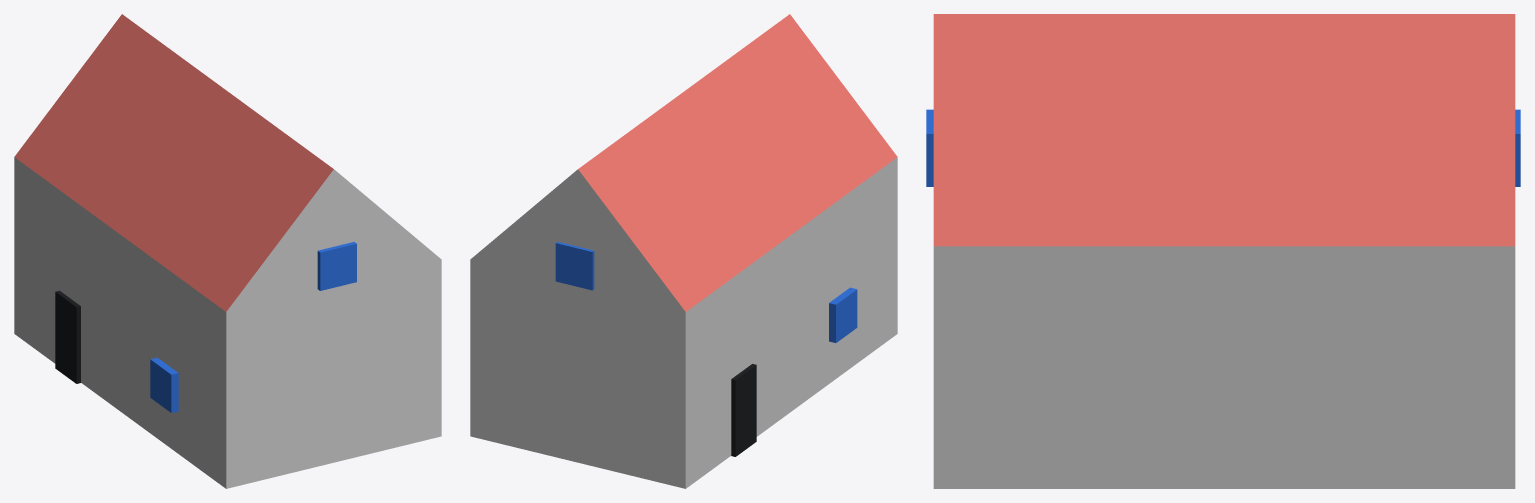
Rendered from House.fbx.
The picture shows the model from 3 angles, left to right: view 1: azimuth 30°, elevation 25°; view 2: azimuth 150°, elevation 25°; view 3: azimuth 270°, elevation 25°; orthographic projection. The views are drawn at different scales.
Parts seen in each view (by area): view 1: House; view 2: House; view 3: House.
Boxes of the visible parts, left/top/right/bottom form: House: left=14, top=14, right=441, bottom=488; House: left=470, top=14, right=897, bottom=488; House: left=926, top=14, right=1520, bottom=488.
Bounding box in the file's own units: 1.21 × 1.53 × 2.04.
